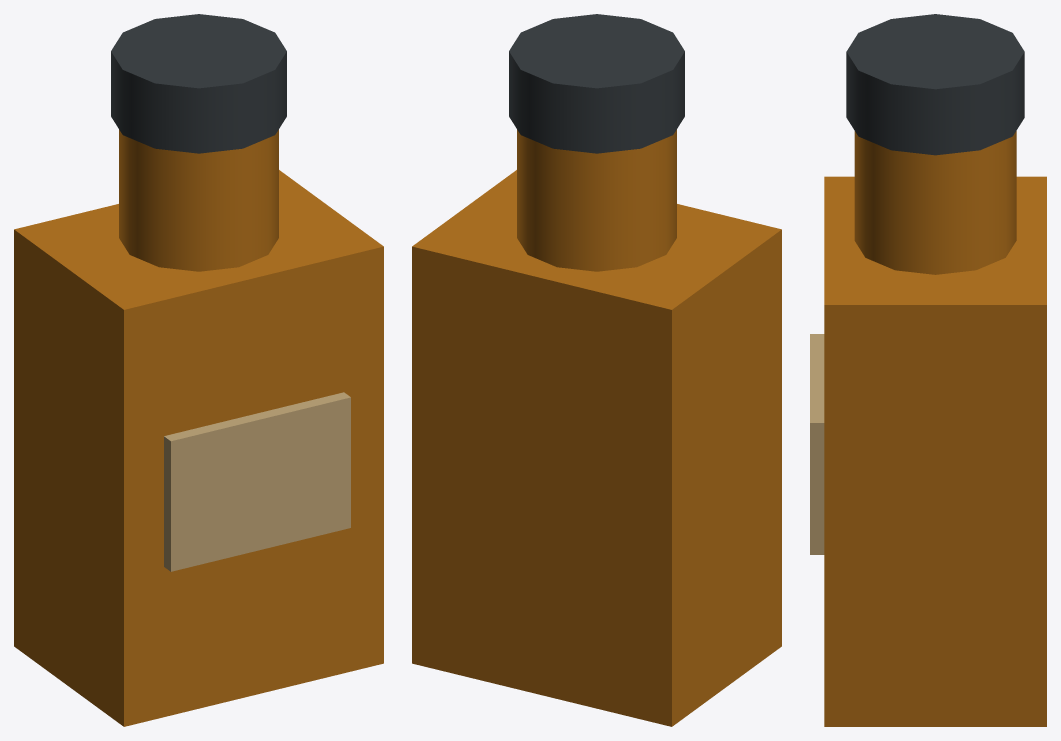
The model's file is lamp_oil_bottle.glb.
The picture shows the model from 3 angles, left to right: view 1: azimuth 30°, elevation 25°; view 2: azimuth 150°, elevation 25°; view 3: azimuth 270°, elevation 25°; orthographic projection.
Parts seen in each view (by area): view 1: lamp_oil_bottle; view 2: lamp_oil_bottle; view 3: lamp_oil_bottle.
Boxes of the visible parts, x1,y1,x2,y2 form: lamp_oil_bottle: (14,14,383,726); lamp_oil_bottle: (412,14,781,726); lamp_oil_bottle: (810,14,1046,726).
Bounding box in the file's own units: 0.075 × 0.1665 × 0.0585.
